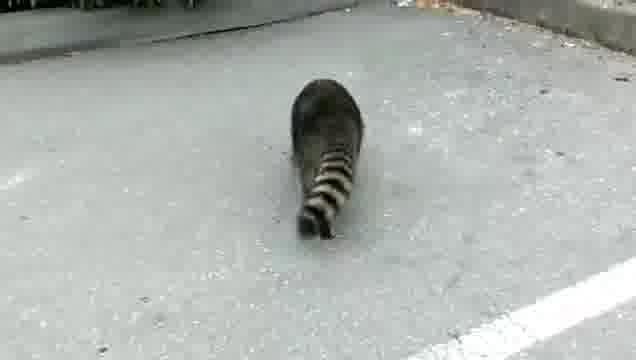raccoon: (286, 73, 370, 250)
